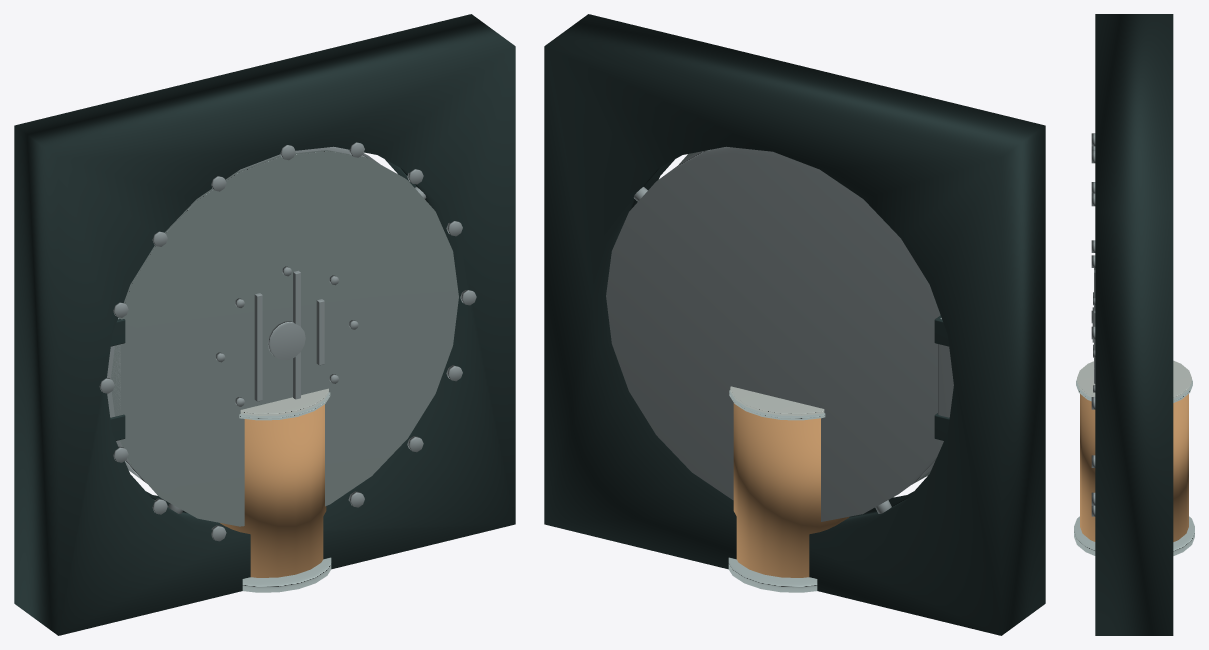
The model's file is vault-kit.glb.
3 views of the same model, side by side, from view 1: azimuth 30°, elevation 25°; view 2: azimuth 150°, elevation 25°; view 3: azimuth 270°, elevation 25° (orthographic). The views are drawn at different scales.
Visible parts, largest first — view 1: VaultFrame_KitAtlas, VaultDoor_KitAtlas, VaultPedestal_KitAtlas, VaultPedestal_KitEmissive; view 2: VaultFrame_KitAtlas, VaultDoor_KitAtlas, VaultPedestal_KitAtlas, VaultPedestal_KitEmissive; view 3: VaultFrame_KitAtlas, VaultPedestal_KitAtlas, VaultPedestal_KitEmissive, VaultDoor_KitAtlas.
Boxes of the visible parts, x1=… form: VaultFrame_KitAtlas: x1=14, y1=14, x2=515, y2=635; VaultDoor_KitAtlas: x1=107, y1=146, x2=458, y2=526; VaultPedestal_KitAtlas: x1=220, y1=392, x2=331, y2=592; VaultPedestal_KitEmissive: x1=240, y1=388, x2=328, y2=415; VaultFrame_KitAtlas: x1=544, y1=14, x2=1045, y2=635; VaultDoor_KitAtlas: x1=606, y1=146, x2=953, y2=521; VaultPedestal_KitAtlas: x1=728, y1=390, x2=849, y2=592; VaultPedestal_KitEmissive: x1=730, y1=386, x2=824, y2=415; VaultFrame_KitAtlas: x1=1091, y1=14, x2=1173, y2=635; VaultPedestal_KitAtlas: x1=1074, y1=379, x2=1194, y2=555; VaultPedestal_KitEmissive: x1=1077, y1=360, x2=1191, y2=398; VaultDoor_KitAtlas: x1=1092, y1=268, x2=1095, y2=392.
Bounding box in the file's own units: 12 × 12 × 3.1.
Materials: 3 (2 with a texture image).
